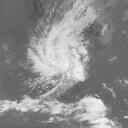cyclone: (29, 30, 87, 81)
